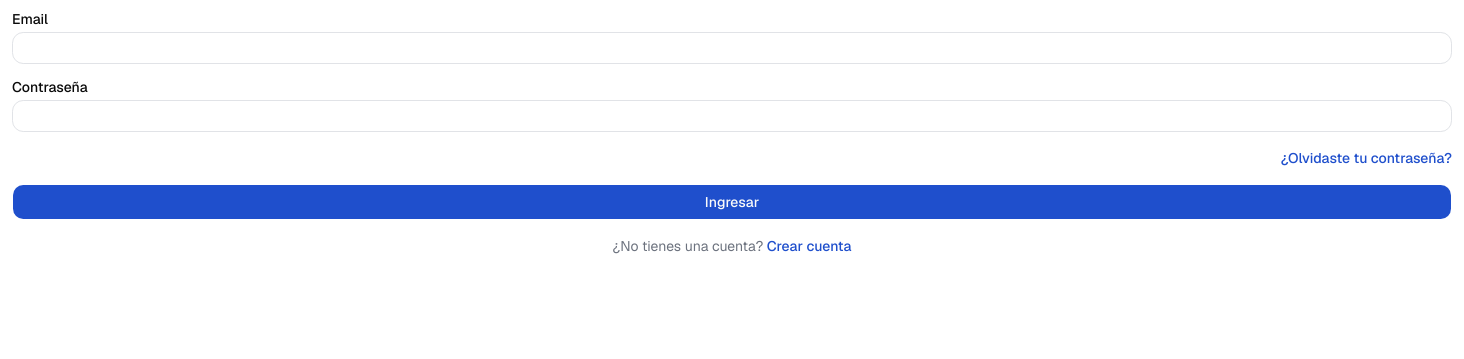
Test case: LoginForm (spec: Login and Session Establishment) › shows the generic no-enumeration message on invalid credentials (401)
Type "user@example.com" into the field labelled "Email" at (732, 48), box [12,32,1452,64]
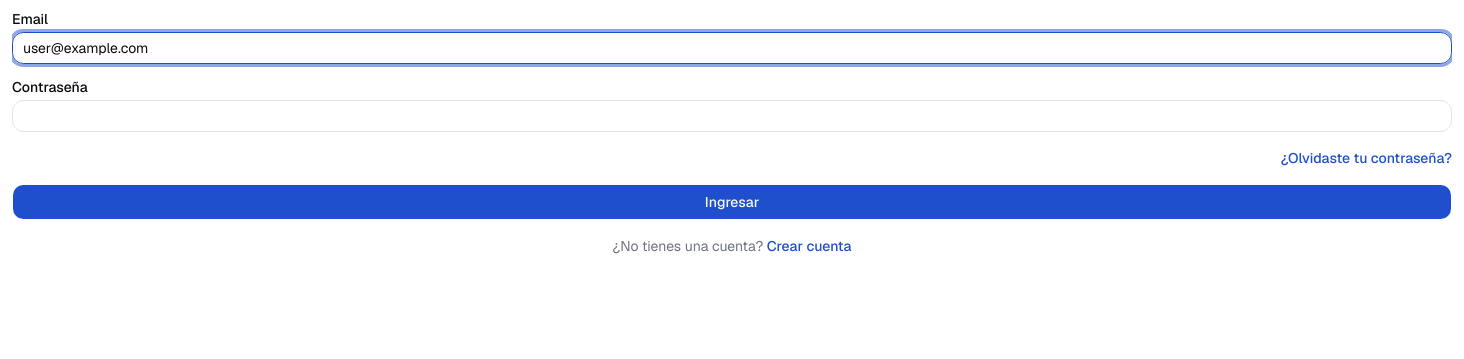
Type "wrongpass" into the password field labelled "Contraseña" at (732, 116), box [12,100,1452,132]
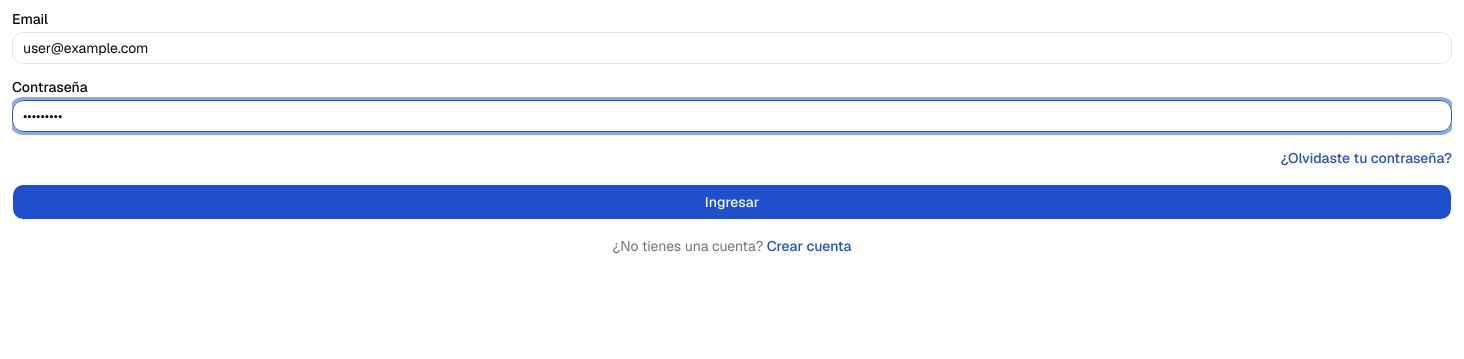
Click the button "Ingresar" at (732, 202), box [12,184,1452,220]
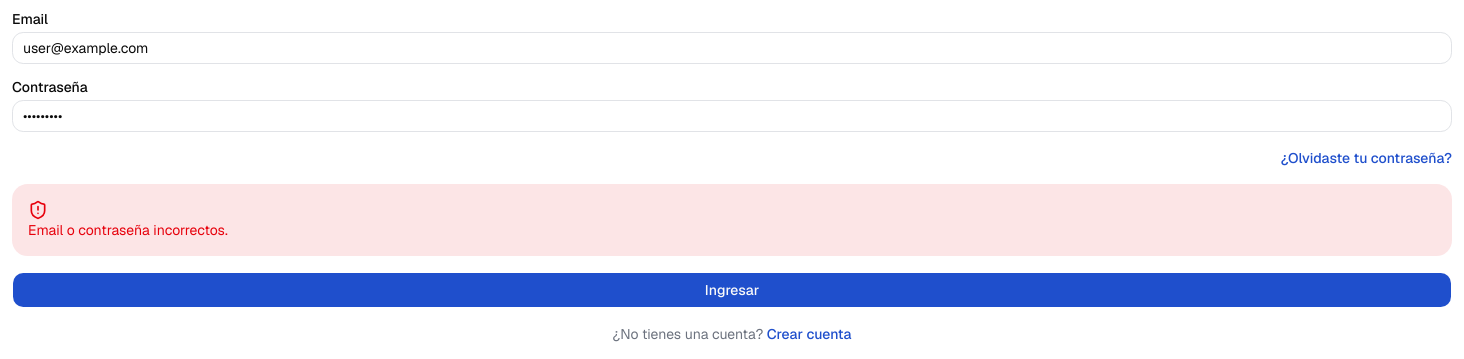
Expected: the text "Email o contraseña incorrectos." is shown, [28,221,228,239]
